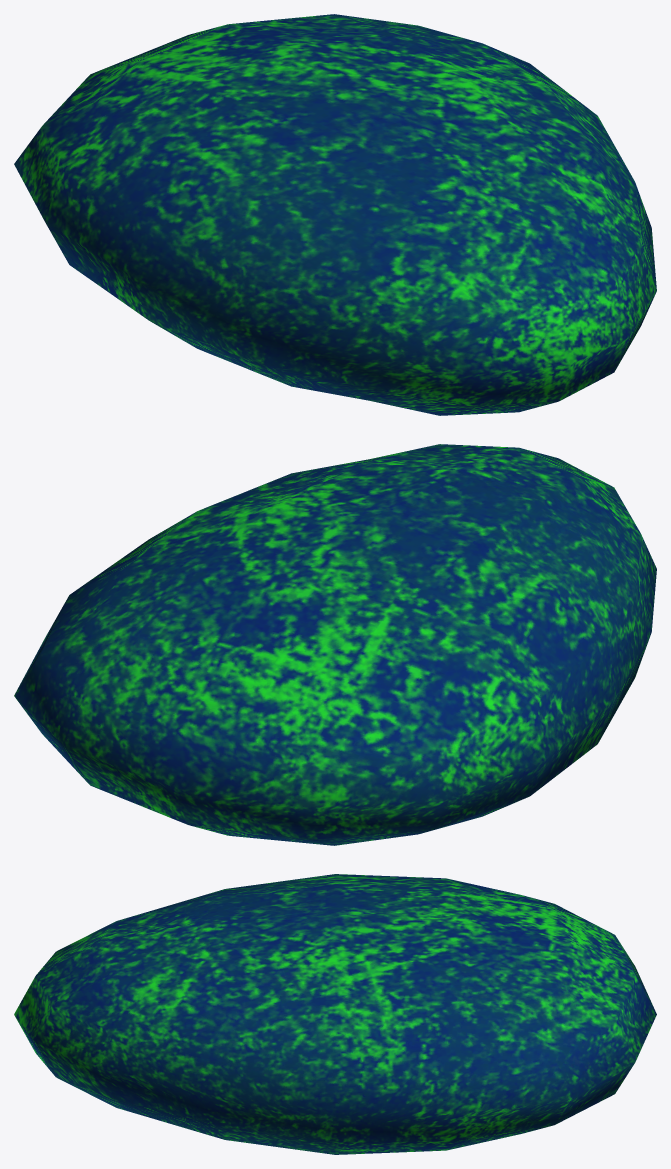
File: Opal.fbx
3 views of the same model, one above another, from view 1: azimuth 30°, elevation 25°; view 2: azimuth 150°, elevation 25°; view 3: azimuth 270°, elevation 25° (orthographic). The views are drawn at different scales.
Parts seen in each view (by area): view 1: Rock; view 2: Rock; view 3: Rock.
Boxes of the visible parts, x1,y1,x2,y2 form: Rock: [14, 14, 656, 415]; Rock: [14, 444, 656, 845]; Rock: [14, 874, 656, 1154].
Bounding box in the file's own units: 0.6851 × 0.3137 × 0.9437.
Materials: 1 (1 with a texture image).
